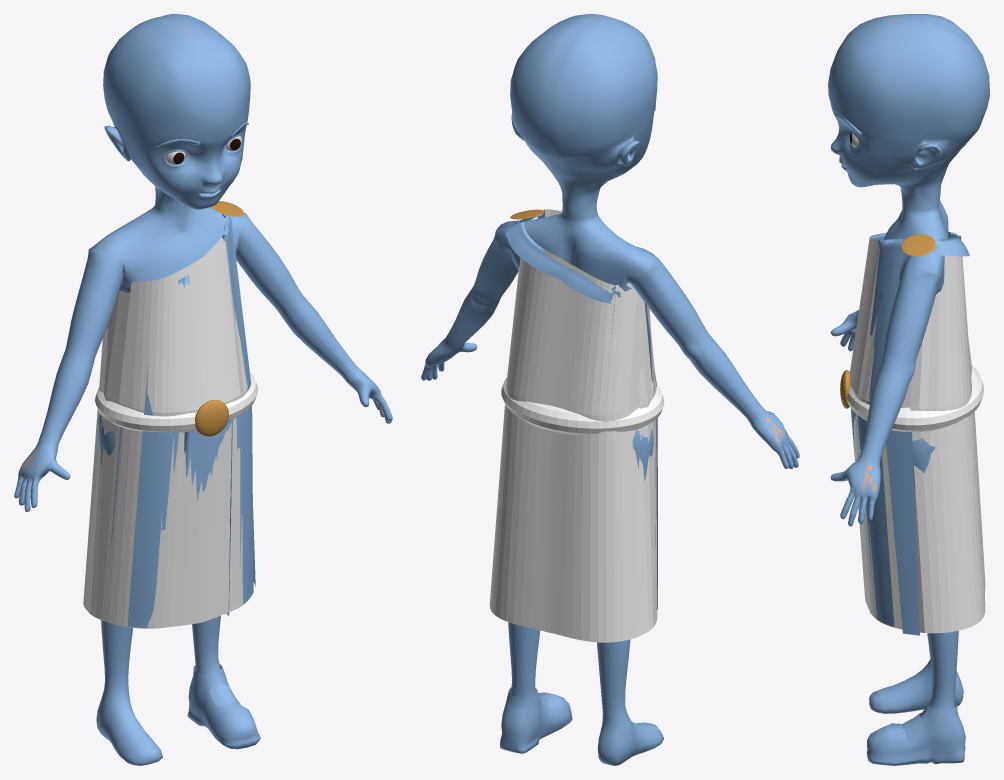
File: roman.glb
3 renders of one model, left to right at view 1: azimuth 30°, elevation 25°; view 2: azimuth 150°, elevation 25°; view 3: azimuth 270°, elevation 25°, orthographic.
Parts seen in each view (by area): view 1: half pant, anime boy hair, shoe, Sphere; view 2: half pant, anime boy hair, shoe; view 3: anime boy hair, half pant, shoe, half pant.001, Sphere.
Boxes of the visible parts, bbox=[...] form: half pant: bbox=[83, 213, 257, 628]; anime boy hair: bbox=[14, 14, 392, 765]; shoe: bbox=[187, 664, 260, 749]; Sphere: bbox=[195, 400, 228, 436]; half pant: bbox=[489, 209, 664, 642]; anime boy hair: bbox=[421, 14, 799, 765]; shoe: bbox=[500, 687, 572, 753]; anime boy hair: bbox=[828, 14, 989, 728]; half pant: bbox=[846, 231, 985, 635]; shoe: bbox=[866, 701, 965, 765]; half pant.001: bbox=[901, 234, 935, 256]; Sphere: bbox=[840, 370, 850, 408].
Size of the model in its own units: 0.987 by 1.85 by 0.3793.
